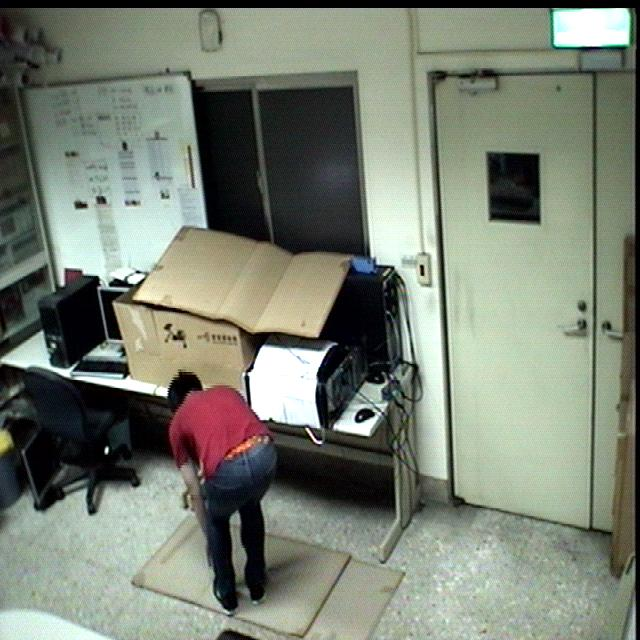bend: (164, 366, 277, 622)
